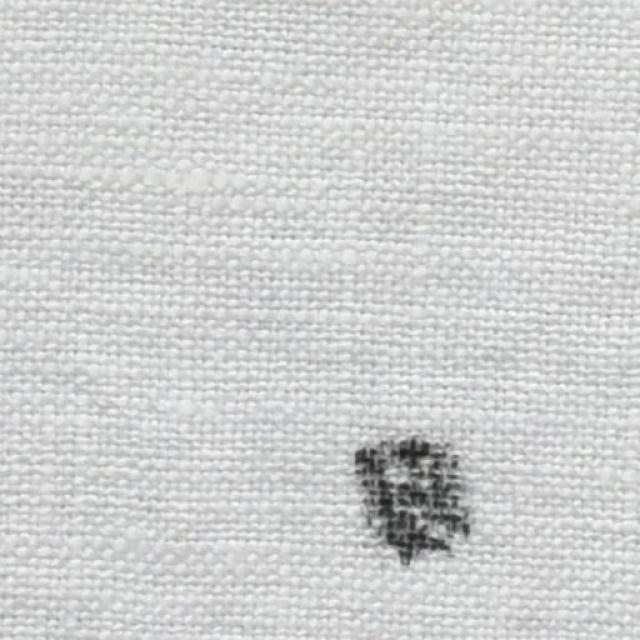Stain: (352, 431, 471, 563)
